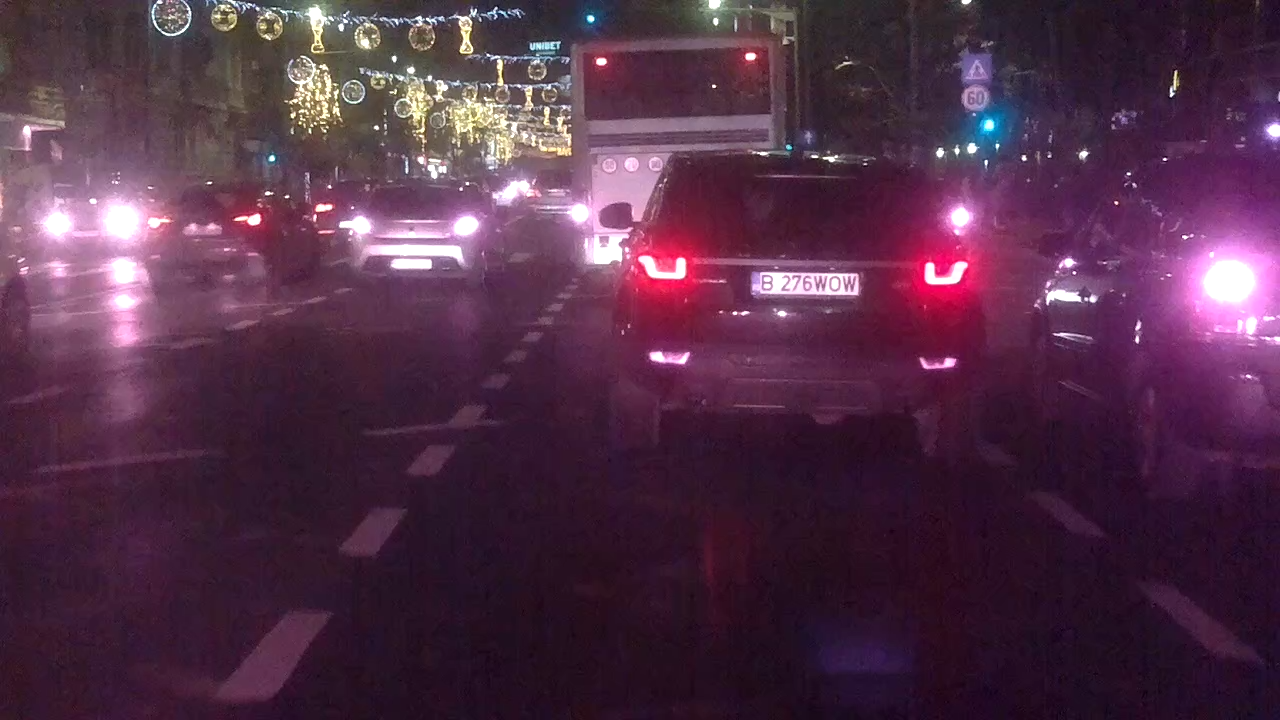license-plate: (746, 267, 865, 301)
